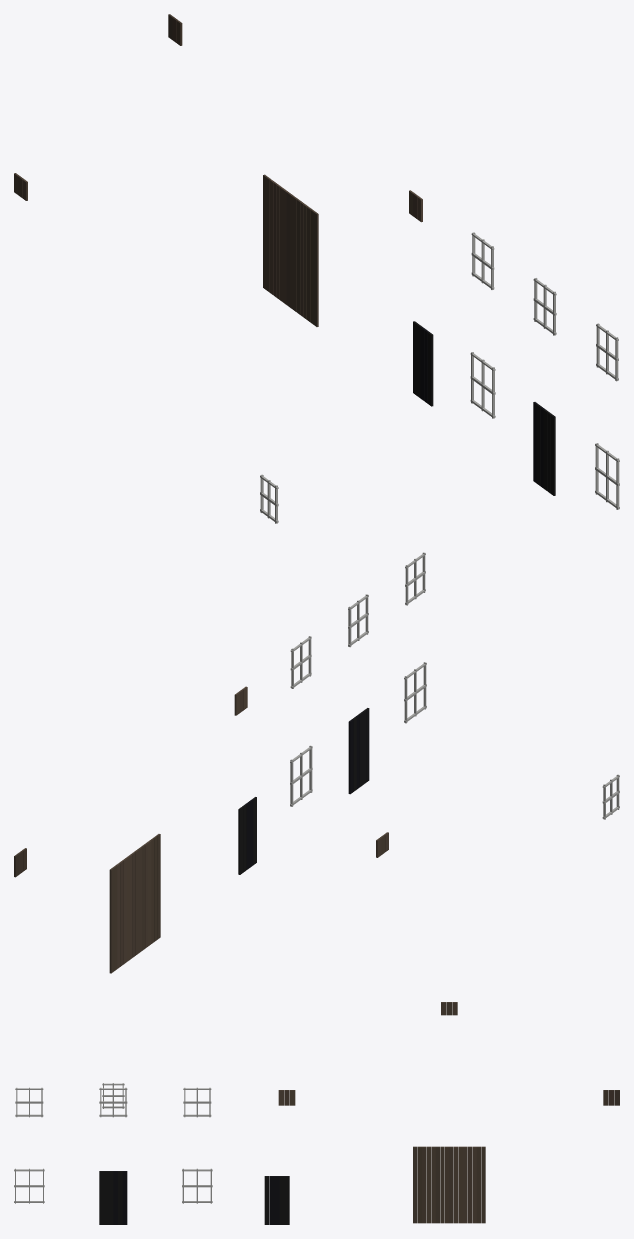
Rendered from SM_Bld_105_Wood.glb.
The picture shows the model from 3 angles, top to bottom: view 1: azimuth 30°, elevation 25°; view 2: azimuth 150°, elevation 25°; view 3: azimuth 270°, elevation 25°; orthographic projection. The views are drawn at different scales.
Visible parts, largest first — view 1: SM_Bld_105_Wood; view 2: SM_Bld_105_Wood; view 3: SM_Bld_105_Wood.
Boxes of the visible parts, x1,y1,x2,y2 form: SM_Bld_105_Wood: (14, 14, 619, 523); SM_Bld_105_Wood: (14, 552, 619, 973); SM_Bld_105_Wood: (14, 1002, 619, 1224).
Size of the model in its own units: 7.74 by 5.4 by 21.65.
